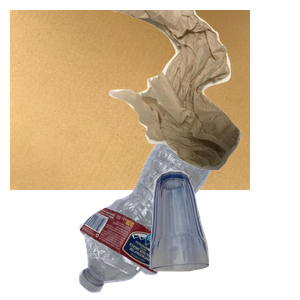cardboard: (10, 10, 250, 190)
glass: (147, 168, 300, 300)
plastic: (76, 131, 280, 300)
trash: (103, 10, 300, 173)
